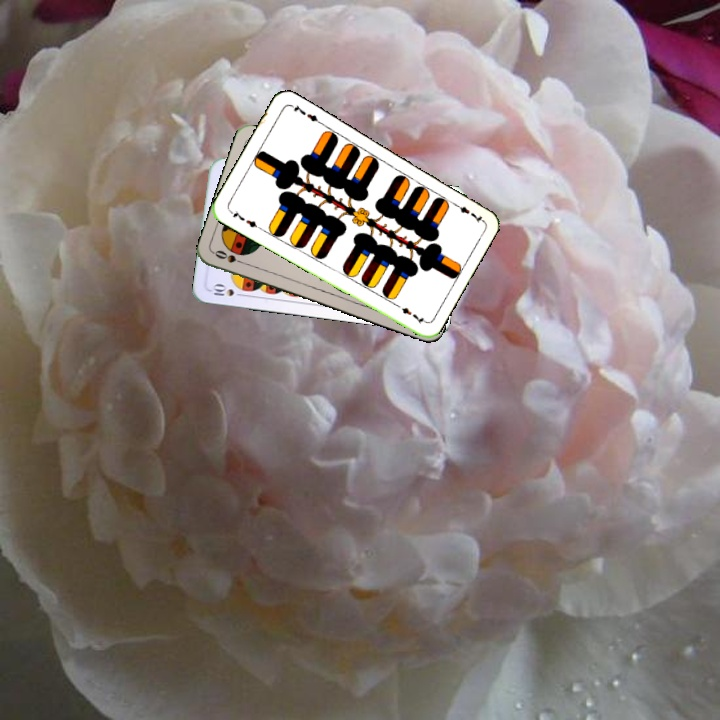E7: (448, 198, 485, 225), (226, 206, 263, 232)
S10: (207, 280, 248, 299)
SO: (210, 246, 250, 268)
